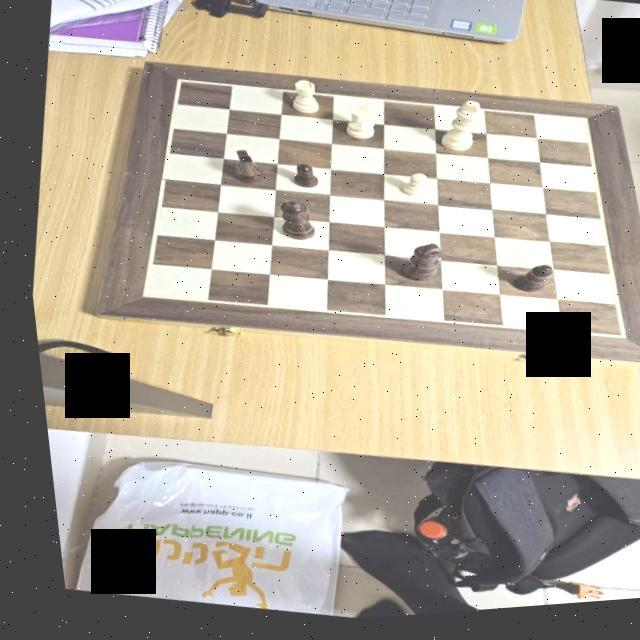chess-table-corners: (124, 288, 153, 305), (162, 74, 190, 91), (600, 337, 626, 352), (569, 120, 593, 134)
